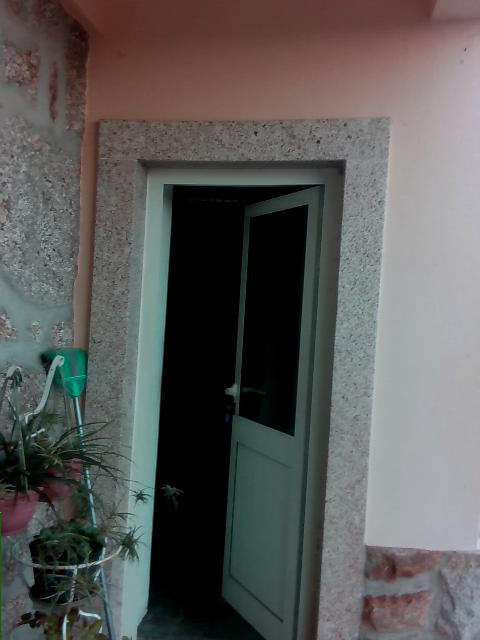semi_door: (118, 161, 344, 639)
